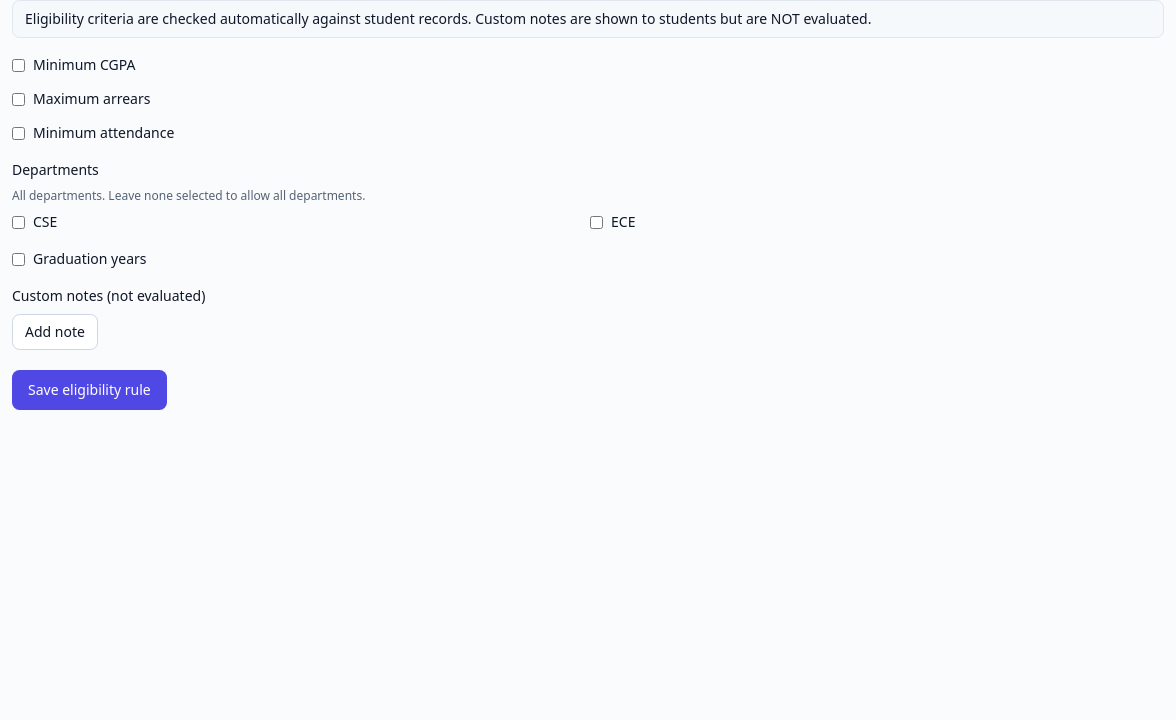
Test case: EligibilityForm › rejects an empty graduation years list and out-of-range attendance
This screenshot has width=1176, height=720.
Click the checkbox labelled "Graduation years" at (18, 259), box [12, 252, 25, 266]
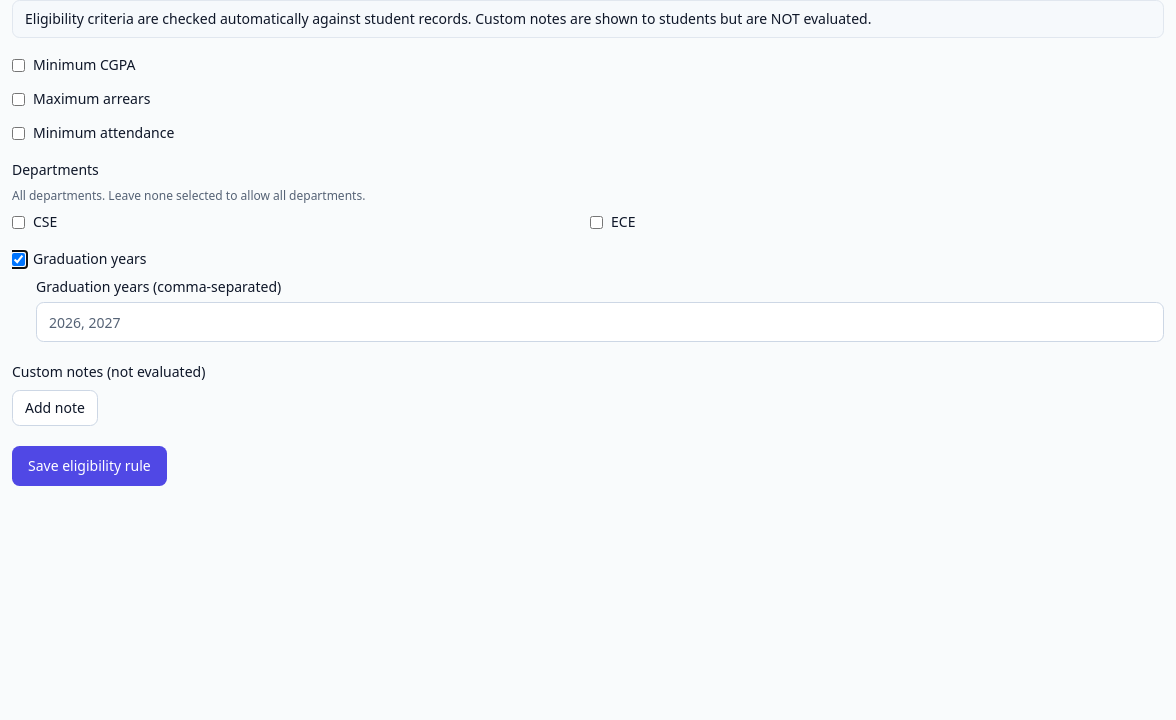
Click the checkbox labelled "Minimum attendance" at (18, 133), box [12, 126, 25, 140]
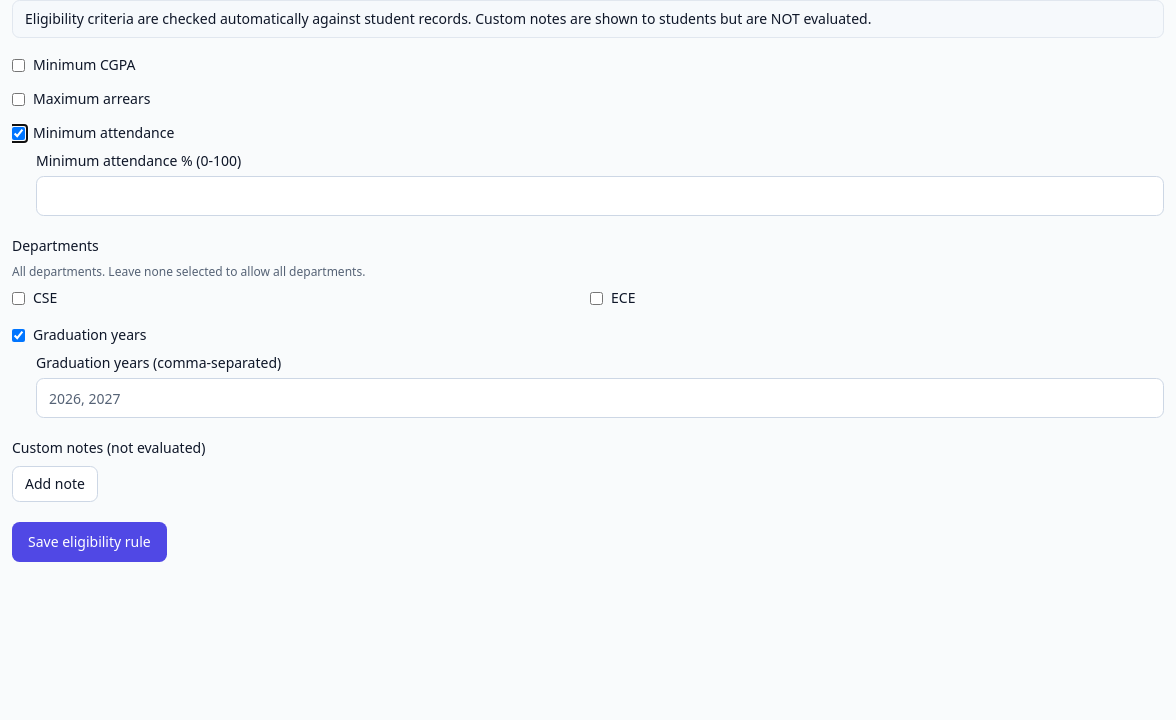
Type "120" into the number field labelled "Minimum attendance % (0-100)" at (600, 196), box [36, 176, 1164, 216]
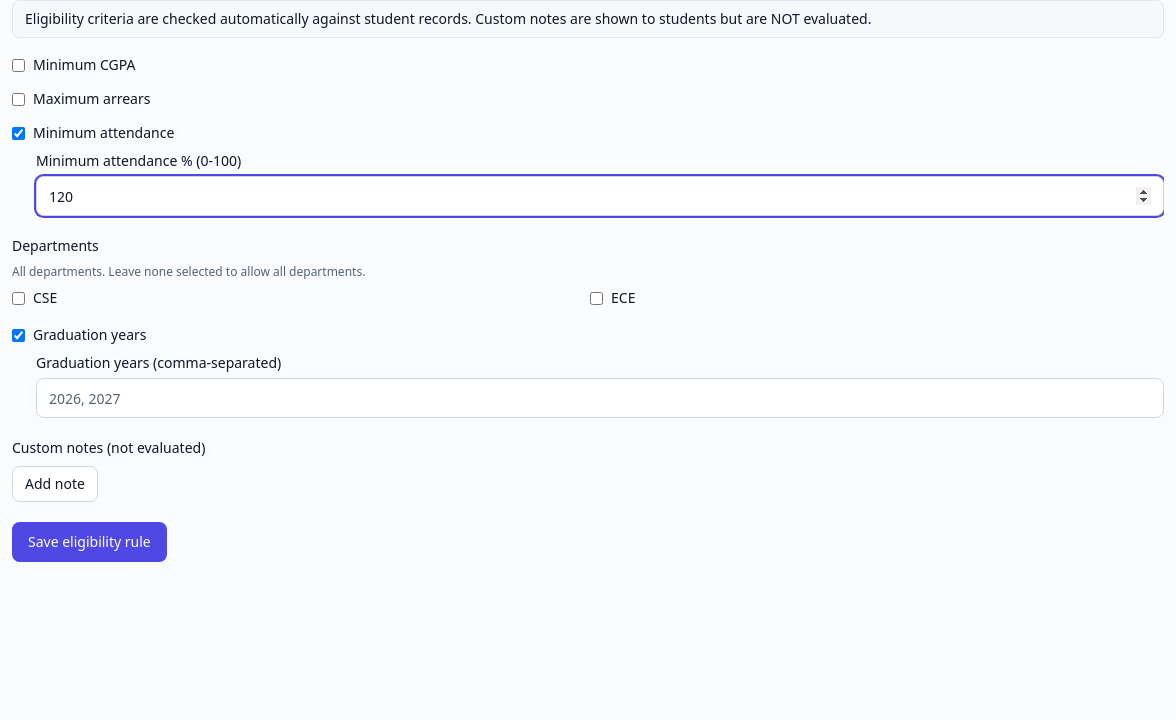
Click the button "Save eligibility rule" at (89, 542), box [12, 522, 167, 562]
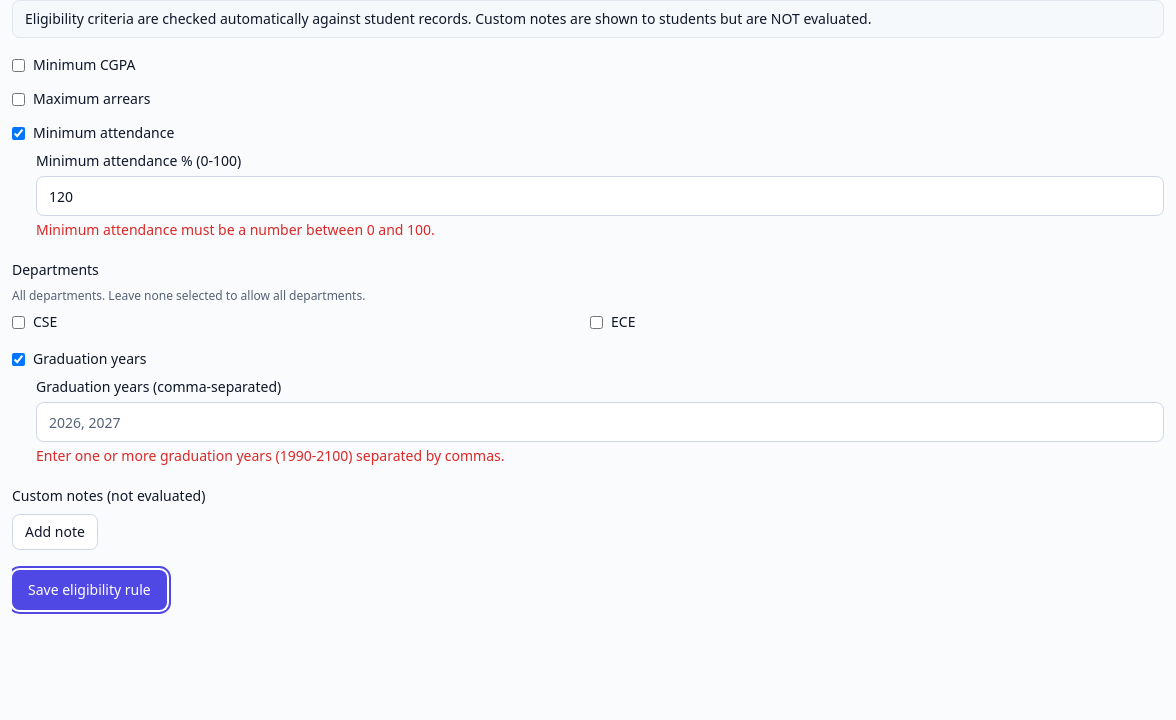
Result: the text "Enter one or more graduation years" is shown at [36, 446, 504, 465]
Result: the text "Minimum attendance must be a number between 0 and 100." is shown at [36, 220, 435, 239]
